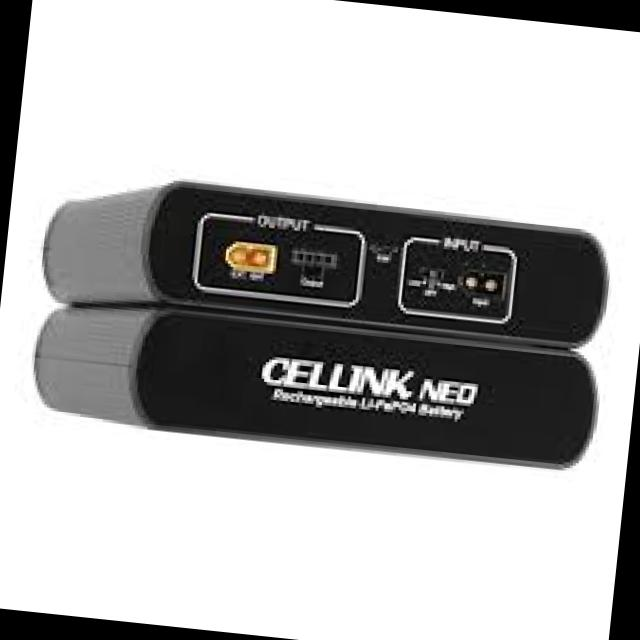power_bank: (33, 162, 622, 355), (22, 299, 610, 481)
